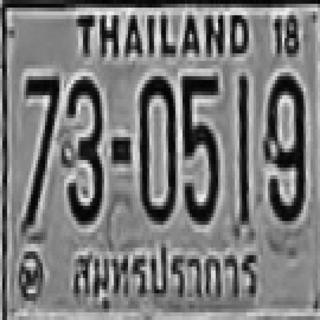N00: (138, 73, 176, 221)
N01: (236, 74, 248, 223)
N03: (62, 76, 102, 221)
N05: (181, 73, 217, 221)
N07: (23, 72, 58, 225), (24, 72, 57, 213), (24, 72, 57, 179)
N09: (263, 72, 303, 217)
P57: (65, 239, 266, 312)
